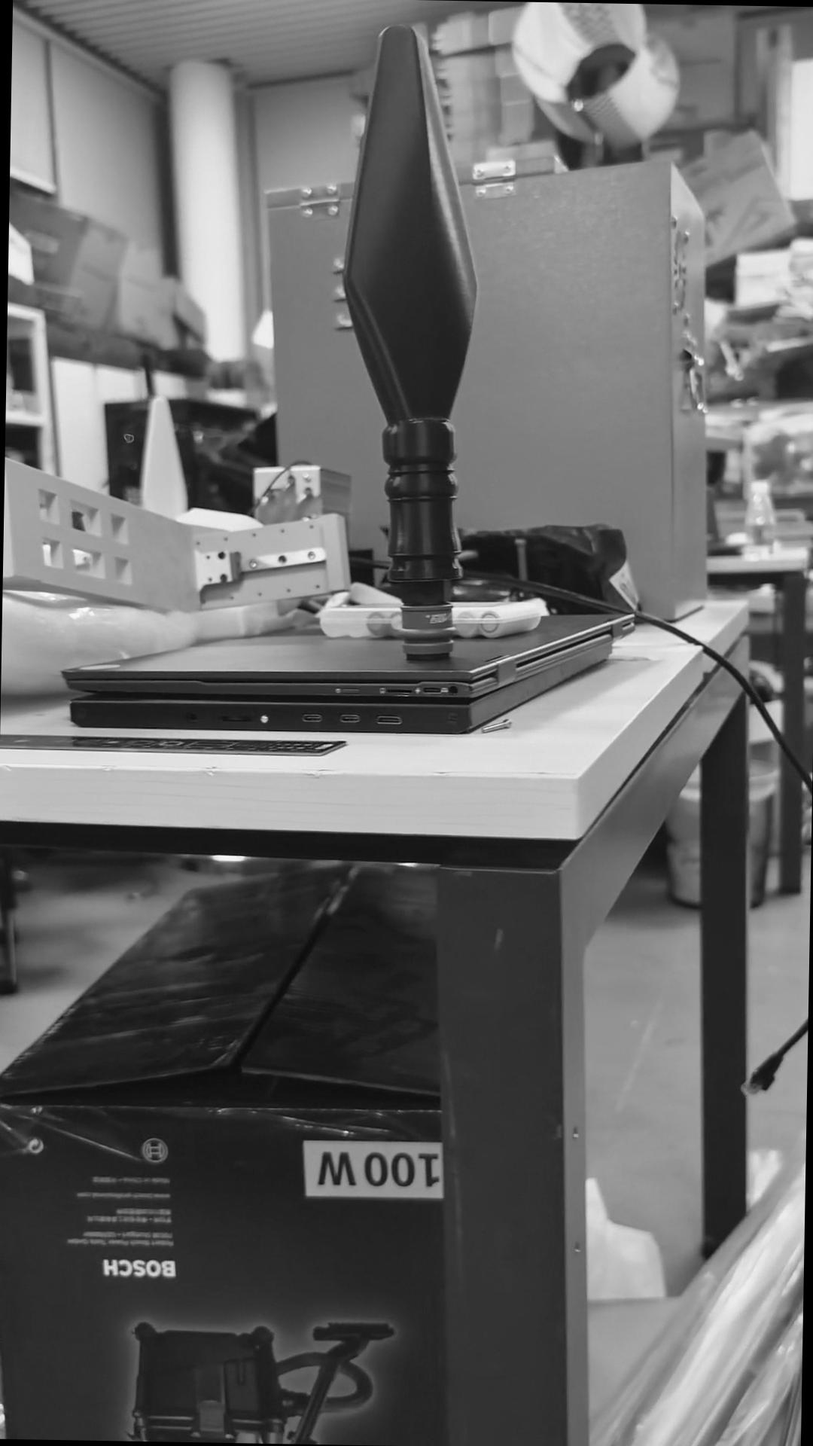base: (397, 606, 454, 661)
